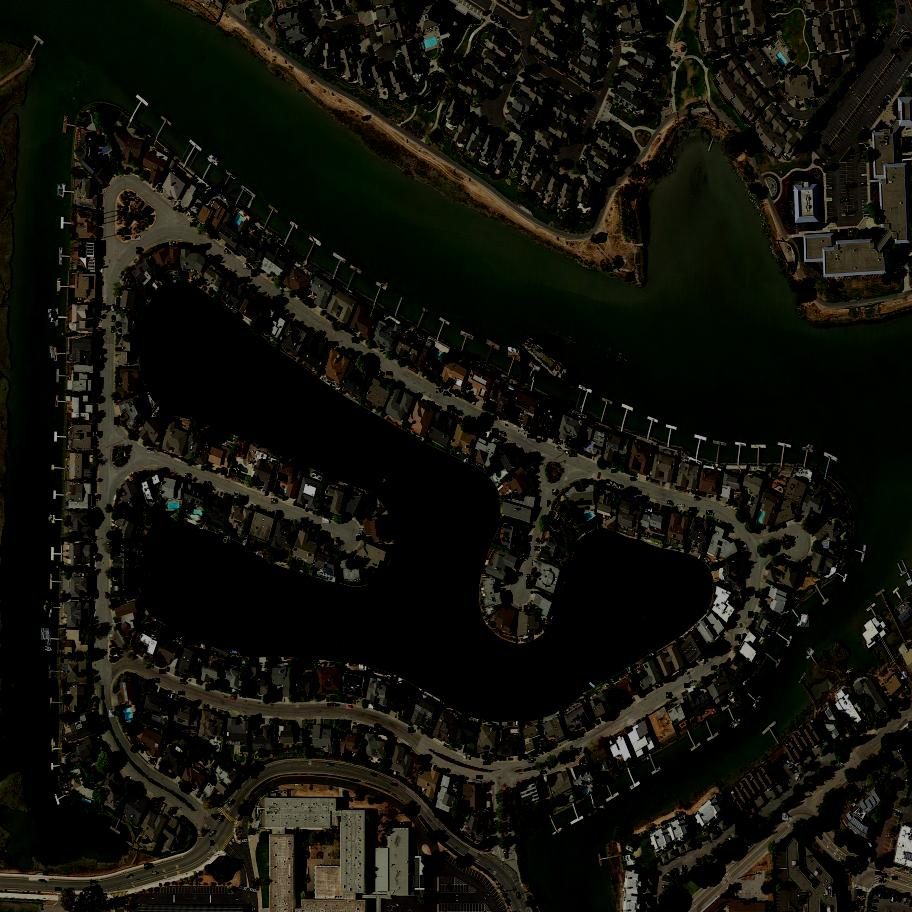large-vehicle: (867, 843, 875, 849), (891, 894, 896, 903)
ship: (520, 334, 565, 380), (561, 367, 579, 387), (587, 808, 603, 820), (41, 600, 51, 617), (507, 347, 521, 356), (801, 615, 810, 628), (41, 629, 50, 641), (731, 722, 743, 731), (49, 310, 56, 324), (208, 154, 219, 162), (57, 184, 64, 196), (50, 346, 55, 359), (806, 647, 813, 656), (582, 382, 591, 389), (380, 280, 388, 287), (48, 513, 54, 522), (45, 646, 54, 652), (756, 699, 761, 709), (806, 444, 814, 450)
small-vehicle: (447, 405, 456, 414), (899, 674, 907, 682), (526, 581, 533, 590), (113, 417, 120, 426), (788, 263, 795, 271), (862, 126, 869, 134), (501, 70, 509, 77), (761, 60, 768, 68), (701, 660, 709, 667), (532, 560, 539, 568), (569, 452, 577, 459), (840, 759, 848, 766), (902, 671, 909, 679), (795, 773, 802, 781), (781, 781, 789, 788), (251, 773, 259, 780), (209, 830, 217, 837), (673, 868, 679, 877), (131, 235, 140, 241), (346, 348, 355, 354), (735, 635, 742, 642), (885, 95, 892, 102), (645, 508, 652, 515), (126, 874, 133, 881), (580, 158, 587, 165), (782, 814, 789, 821), (228, 799, 235, 806), (159, 669, 166, 676), (568, 758, 575, 765), (94, 326, 102, 332), (822, 115, 830, 121), (710, 665, 718, 671), (456, 410, 464, 416), (109, 710, 115, 718), (370, 771, 378, 777), (463, 756, 471, 762), (352, 337, 360, 343), (271, 498, 279, 504), (322, 518, 330, 524), (562, 72, 568, 79), (883, 99, 890, 105), (773, 103, 779, 110), (635, 490, 642, 496), (610, 481, 617, 487), (558, 439, 564, 446), (531, 476, 538, 482), (553, 490, 560, 496), (788, 763, 795, 769), (846, 857, 852, 864), (219, 816, 225, 823), (684, 683, 691, 689), (666, 693, 673, 699), (528, 758, 535, 764), (408, 728, 415, 734), (251, 270, 258, 276), (137, 248, 143, 255), (319, 330, 326, 336), (334, 539, 340, 546), (756, 591, 761, 599), (499, 413, 504, 421), (152, 679, 160, 684), (455, 390, 460, 398), (376, 370, 381, 378), (772, 74, 778, 80), (680, 668, 686, 674), (894, 811, 900, 817), (201, 795, 207, 801), (191, 222, 197, 228), (224, 249, 230, 255), (386, 371, 392, 377), (826, 185, 833, 190), (667, 501, 674, 506), (878, 106, 885, 111), (516, 573, 523, 578), (885, 893, 890, 900), (867, 724, 872, 731), (888, 892, 893, 899), (683, 865, 688, 872), (792, 768, 799, 773), (881, 873, 888, 878), (490, 416, 497, 421), (179, 691, 186, 696), (94, 704, 99, 711), (537, 748, 542, 755), (476, 775, 483, 780), (374, 724, 381, 729), (119, 271, 124, 278), (436, 388, 443, 393), (328, 11, 332, 19), (694, 496, 700, 501), (707, 511, 713, 516), (783, 554, 789, 559), (854, 73, 859, 79), (690, 680, 696, 685), (611, 469, 617, 474), (493, 428, 499, 433), (873, 899, 879, 904), (790, 767, 796, 772), (879, 878, 885, 883), (181, 679, 187, 684), (347, 704, 353, 709), (211, 841, 216, 847), (444, 391, 449, 397), (235, 493, 241, 498), (880, 710, 884, 717), (879, 891, 883, 898), (369, 727, 373, 734), (540, 740, 544, 747), (276, 511, 283, 515), (857, 899, 860, 908), (244, 264, 249, 269), (186, 473, 191, 478), (145, 864, 151, 868), (499, 433, 505, 437), (536, 439, 542, 443), (555, 446, 561, 450), (447, 884, 451, 890), (858, 890, 862, 896), (189, 210, 192, 218), (314, 524, 320, 528), (93, 319, 100, 322), (527, 435, 534, 438), (883, 891, 886, 898), (681, 868, 684, 875), (484, 761, 491, 764), (111, 326, 114, 333), (147, 450, 154, 453), (535, 547, 540, 551), (516, 893, 520, 898), (880, 722, 885, 726), (308, 523, 313, 527), (860, 156, 866, 159), (861, 183, 867, 186), (749, 611, 752, 617), (899, 7, 902, 13), (499, 589, 505, 592), (536, 538, 539, 544), (39, 880, 45, 883), (534, 462, 537, 468), (904, 898, 907, 904), (892, 877, 898, 880), (493, 820, 496, 826), (111, 315, 114, 321), (390, 63, 393, 68), (794, 123, 797, 128), (534, 481, 539, 484), (391, 783, 396, 786), (97, 432, 100, 437), (359, 528, 364, 531), (689, 508, 696, 510), (495, 16, 497, 23), (544, 435, 546, 442), (697, 858, 699, 865), (356, 534, 358, 541), (861, 148, 865, 151), (841, 200, 847, 202), (499, 17, 501, 23), (524, 553, 526, 559), (56, 888, 60, 891), (617, 485, 621, 488), (526, 427, 529, 431), (548, 500, 551, 504), (886, 834, 890, 837), (334, 703, 338, 706), (537, 742, 539, 748), (111, 305, 114, 309), (506, 24, 508, 29), (562, 91, 567, 93), (526, 547, 528, 552), (526, 575, 528, 580), (871, 907, 876, 909), (231, 697, 236, 699), (541, 746, 543, 751), (172, 773, 174, 778), (204, 481, 209, 483), (788, 761, 791, 764), (328, 703, 331, 706), (92, 440, 95, 443), (152, 872, 156, 874), (91, 880, 95, 882), (876, 872, 880, 874), (149, 759, 151, 763), (153, 758, 155, 762), (541, 771, 545, 773), (92, 444, 96, 446), (677, 505, 684, 506), (503, 21, 504, 27), (522, 424, 523, 430), (327, 763, 330, 765), (457, 745, 459, 748), (631, 478, 636, 479), (380, 372, 381, 377), (860, 144, 864, 145), (898, 897, 899, 901), (106, 593, 107, 597), (611, 40, 611, 44), (97, 499, 97, 501)
